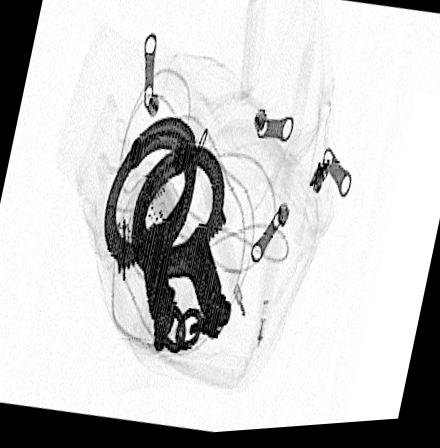HandCuffs: (101, 114, 234, 362)
